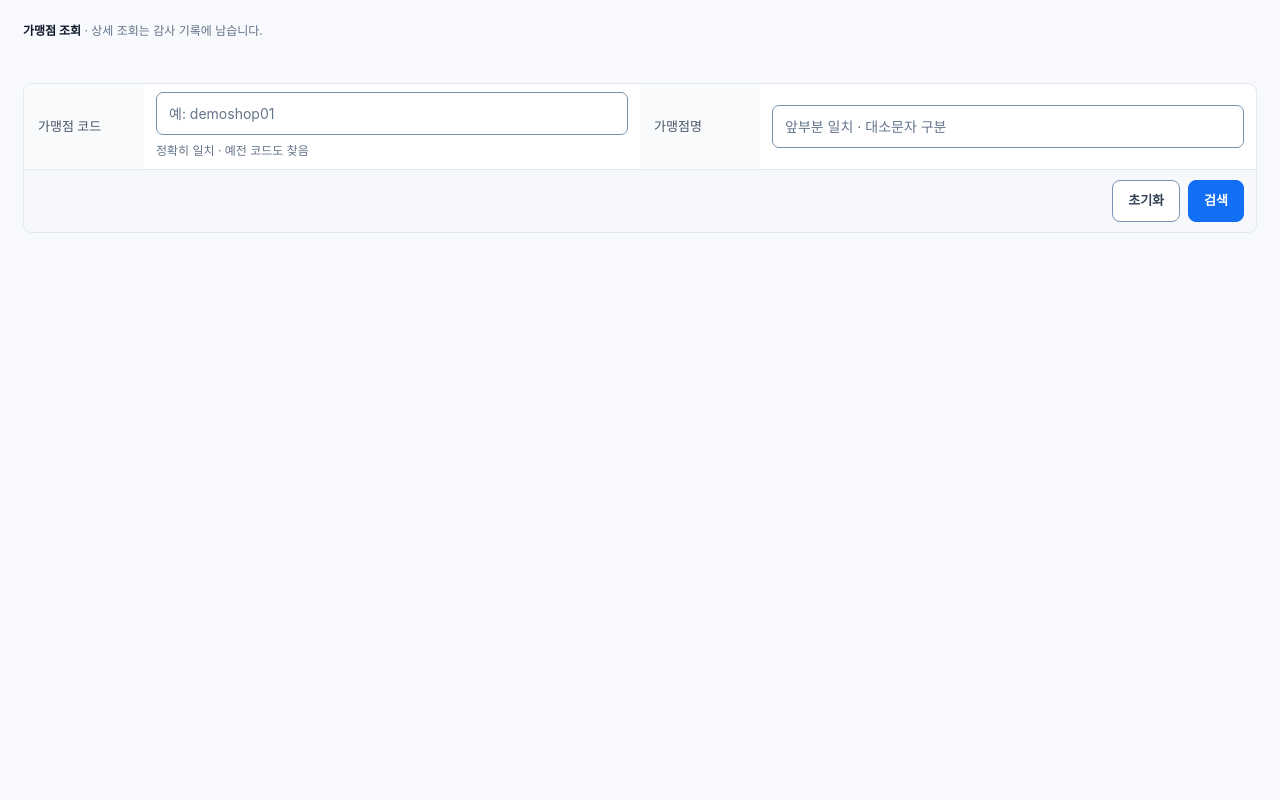
Test: MerchantsScreen — list ↔ detail screen switch (MERCHANT-DETAIL-VIEW-001) › "← 목록으로" returns to the same list: filters, rows of the page shown and the next-page state stay; nothing is searched again
Type "데모" into the field labelled "가맹점명" at (1008, 126), box [772,105,1244,148]
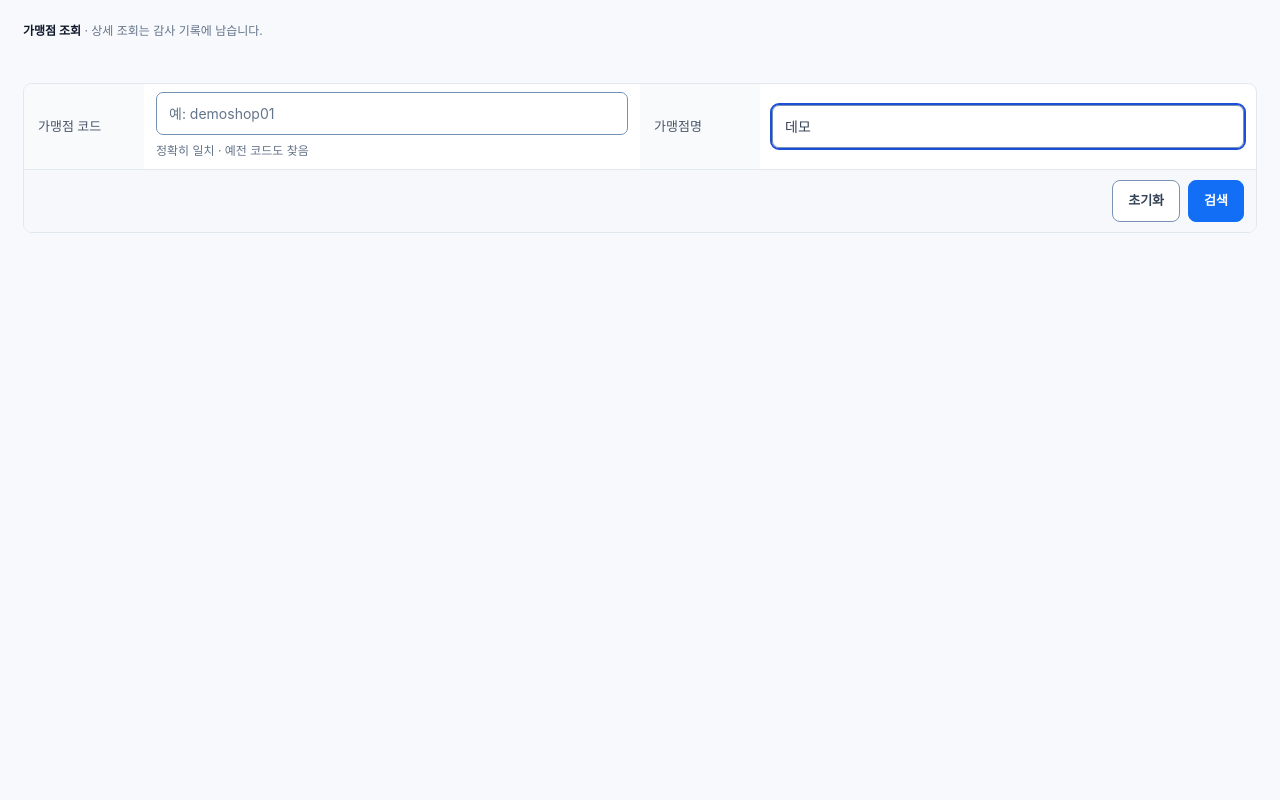
Click the button "검색" at (1216, 201), box [1188,180,1244,222]
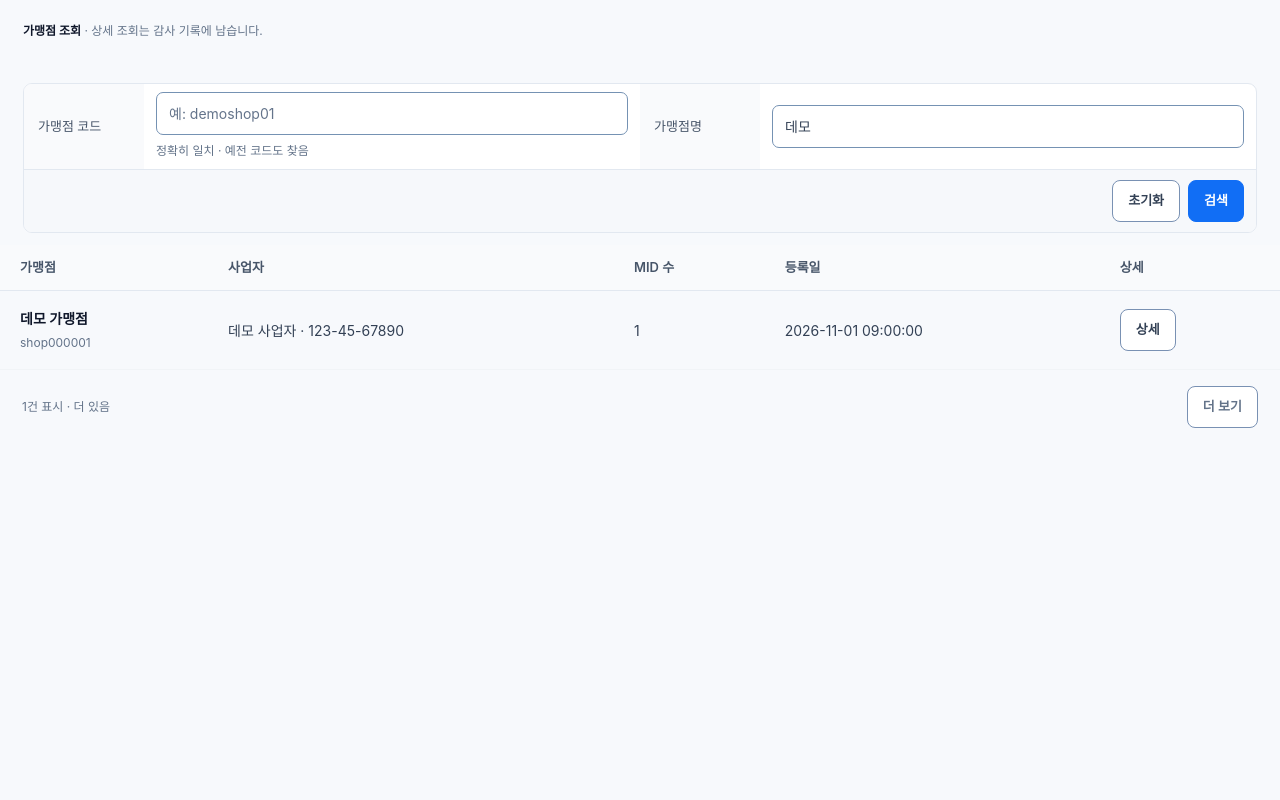
Click the button "더 보기" at (1222, 407), box [1187,386,1258,428]
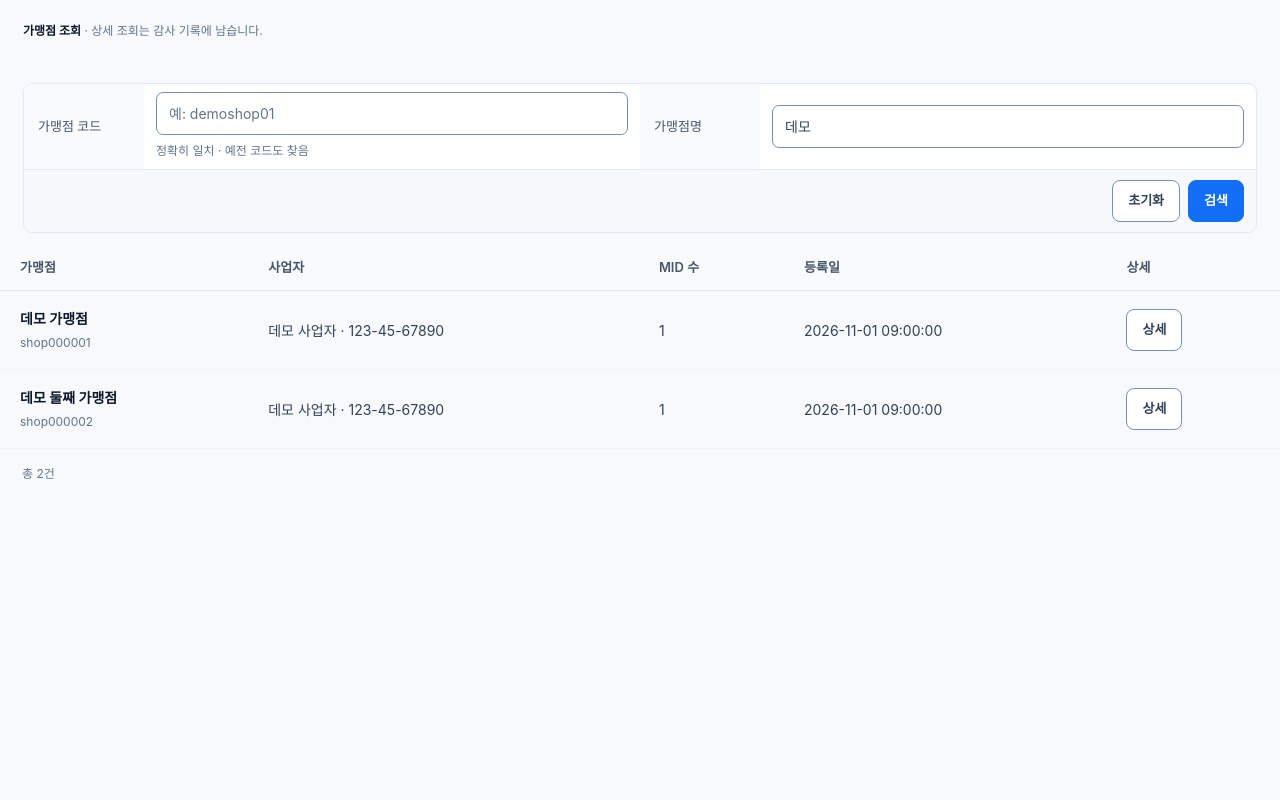
Click the button "상세" in the row of "데모 둘째 가맹점" at (1154, 409), box [1126,388,1182,430]
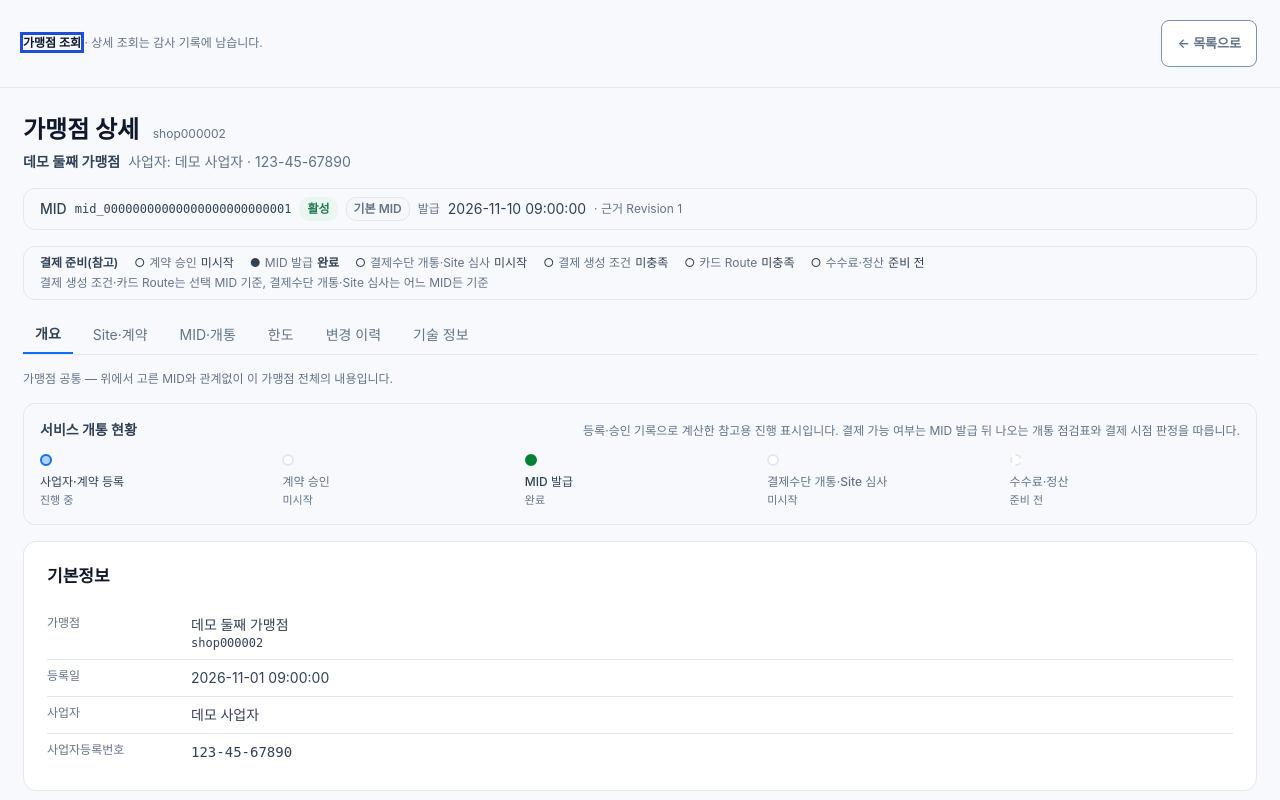
Click the button "← 목록으로" at (1209, 43), box [1162,20,1257,67]
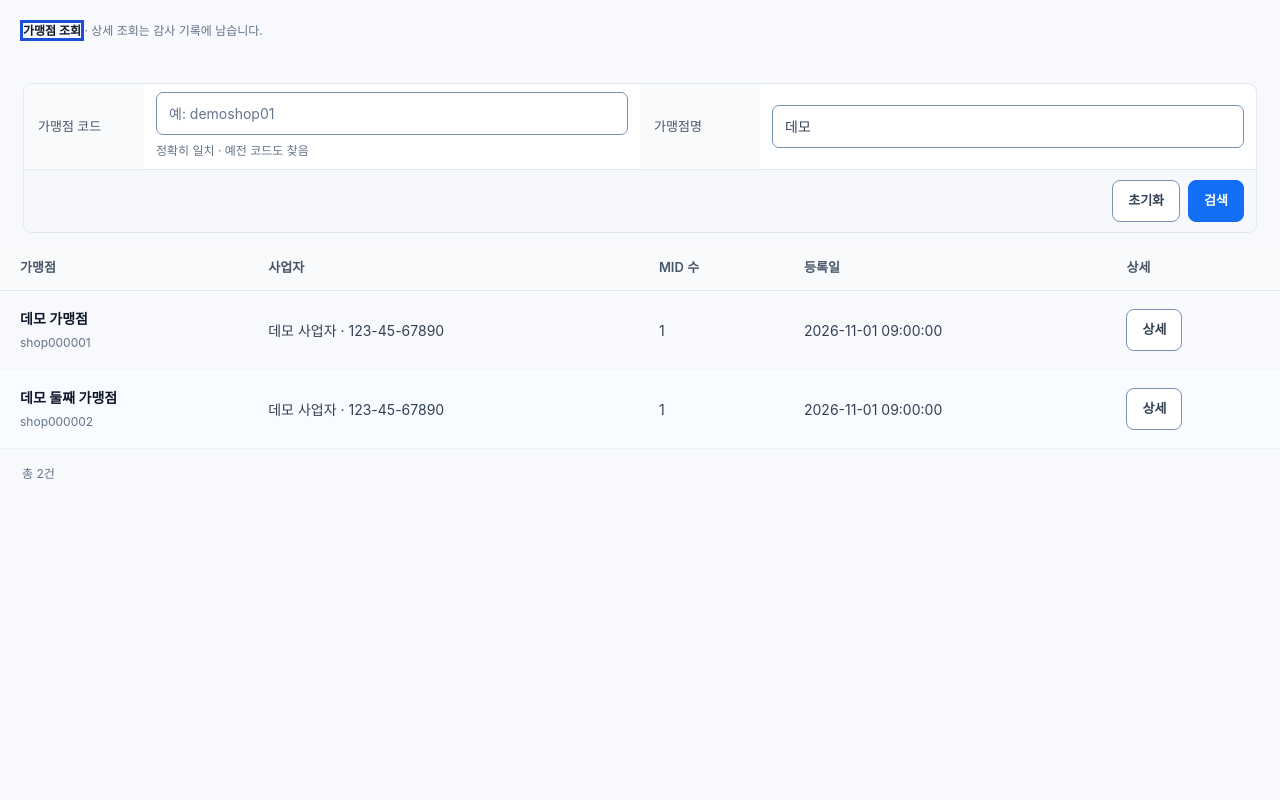
Check: the table named "가맹점 목록" is shown, box [0,245,1279,449]
Check: the heading "가맹점 상세" is gone
Check: the field labelled "가맹점명" holds "데모", box [772,105,1244,148]
